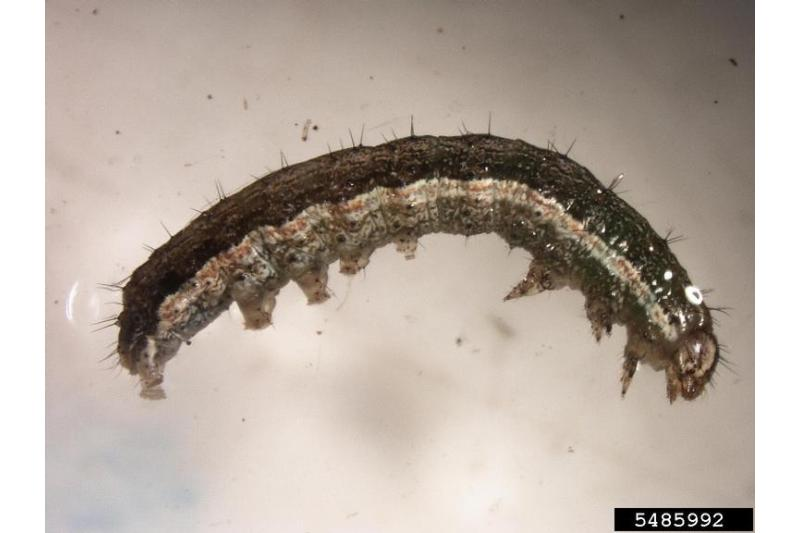fall-armyworm: (110, 134, 723, 408)
